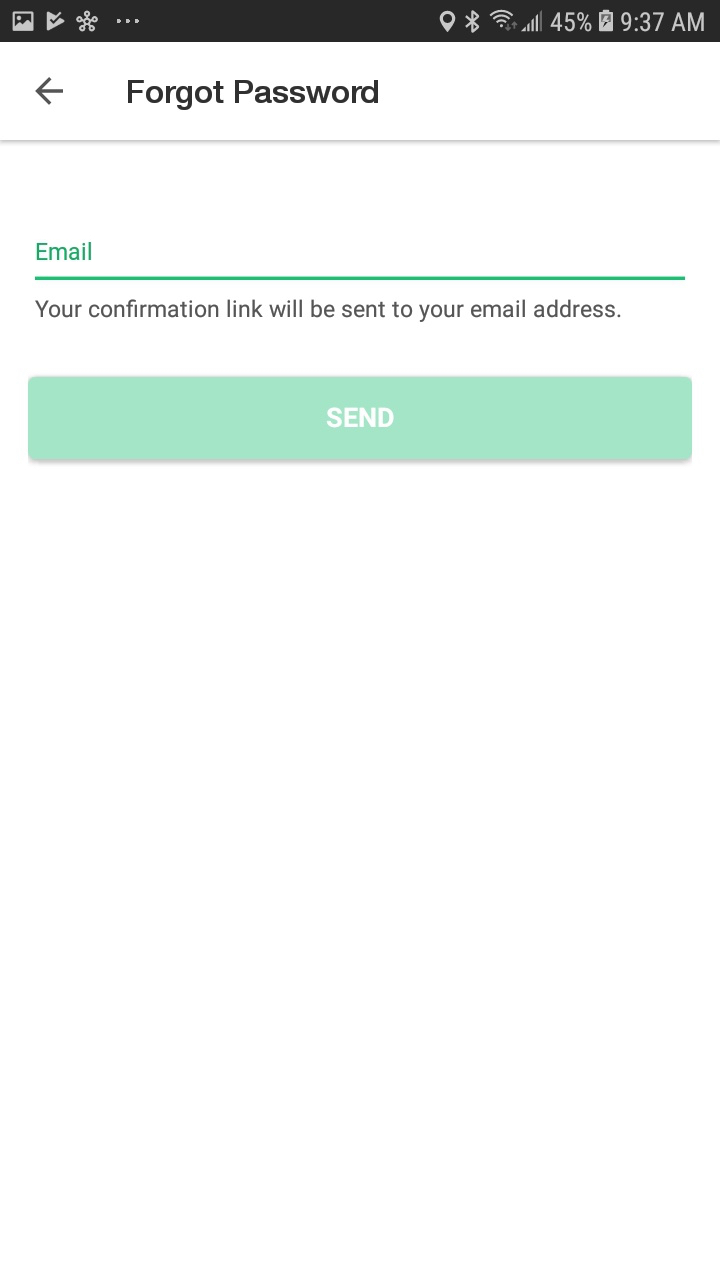EditText: (35, 242, 686, 282)
Icon: (35, 77, 65, 106)
Text: (35, 299, 621, 323), (128, 80, 379, 112), (37, 243, 93, 262)
TextButton: (29, 377, 692, 461)
UpperTaskBar: (1, 1, 720, 43)
